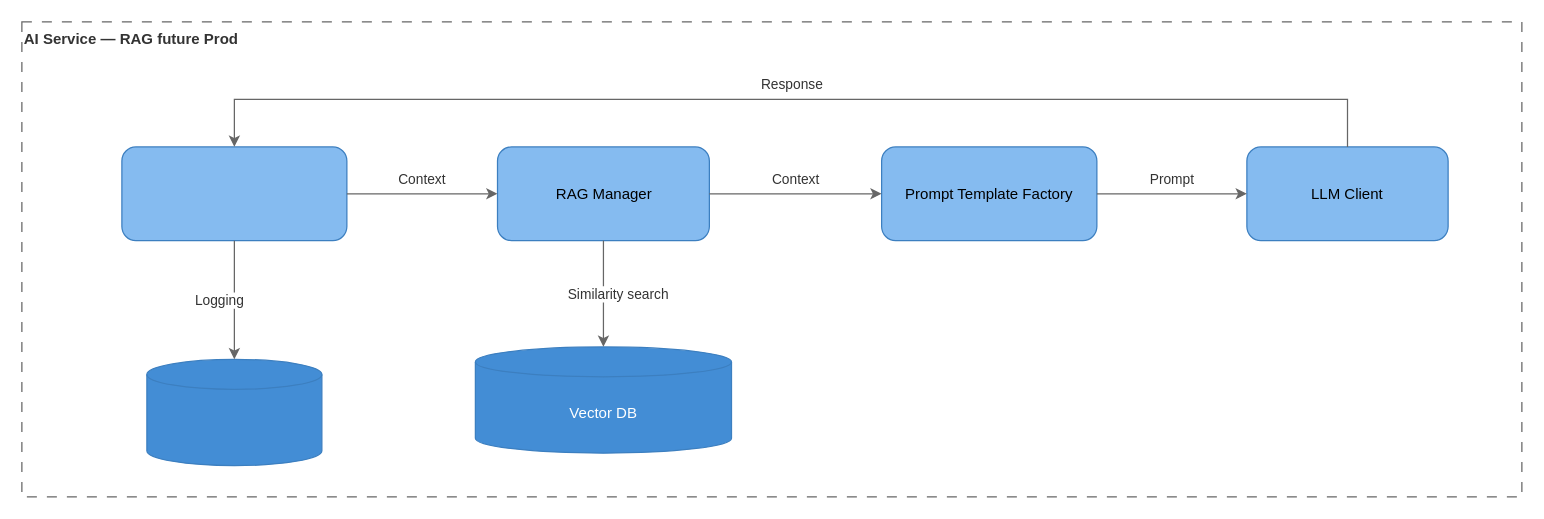
Image size: 1544x519. Some labels were removed from this diagram. The centre of each missing label's shape, as x and y in pixels:
"Controller" goes at [234,193].
"SQL DB" goes at [234,412].
